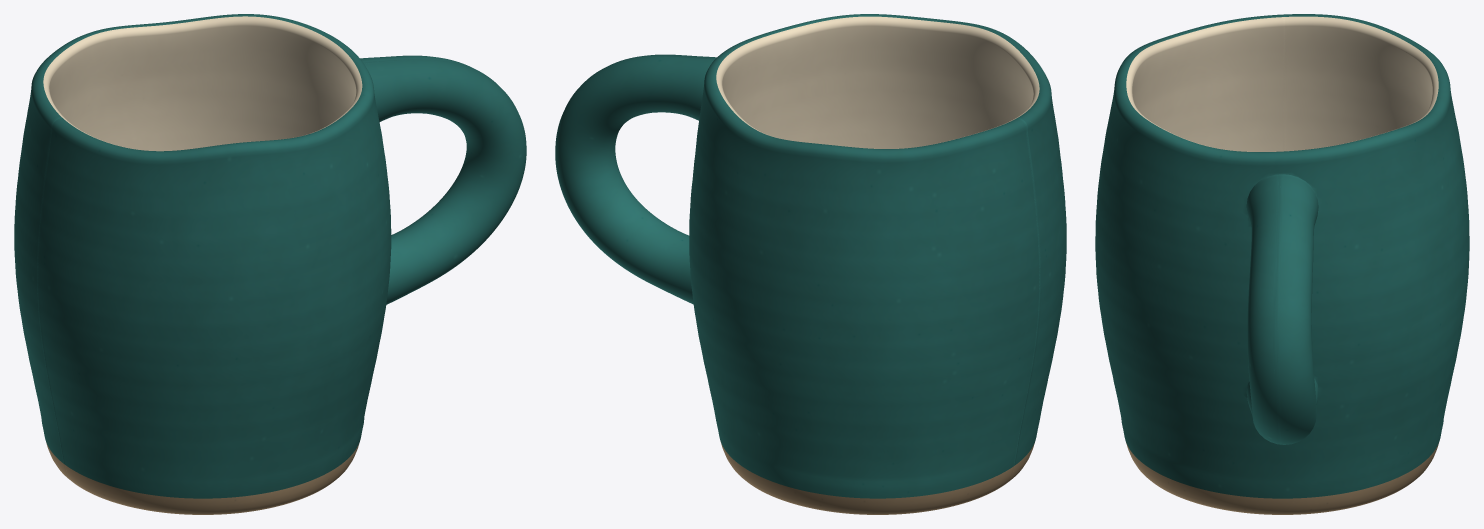
File: handmade_ceramic_mug.glb
The picture shows the model from 3 angles, left to right: view 1: azimuth 30°, elevation 25°; view 2: azimuth 150°, elevation 25°; view 3: azimuth 270°, elevation 25°; orthographic projection.
Parts seen in each view (by area): view 1: CeramicMug; view 2: CeramicMug; view 3: CeramicMug.
Boxes of the visible parts, x1,y1,x2,y2 form: CeramicMug: (14, 14, 526, 514); CeramicMug: (555, 14, 1066, 514); CeramicMug: (1095, 14, 1469, 514).
Bounding box in the file's own units: 0.1304 × 0.097 × 0.0878.
3 materials, 3 textured.
